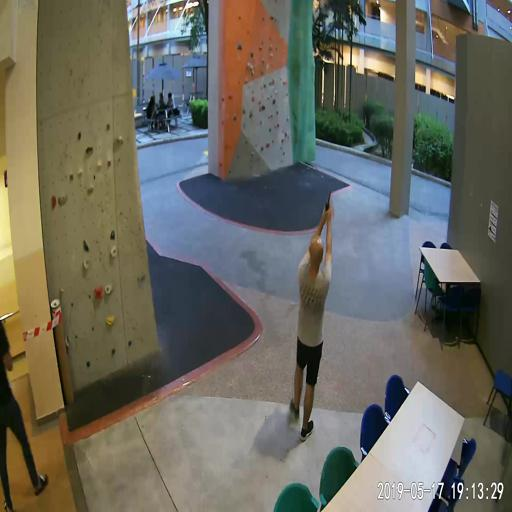pistol: (324, 188, 332, 215)
